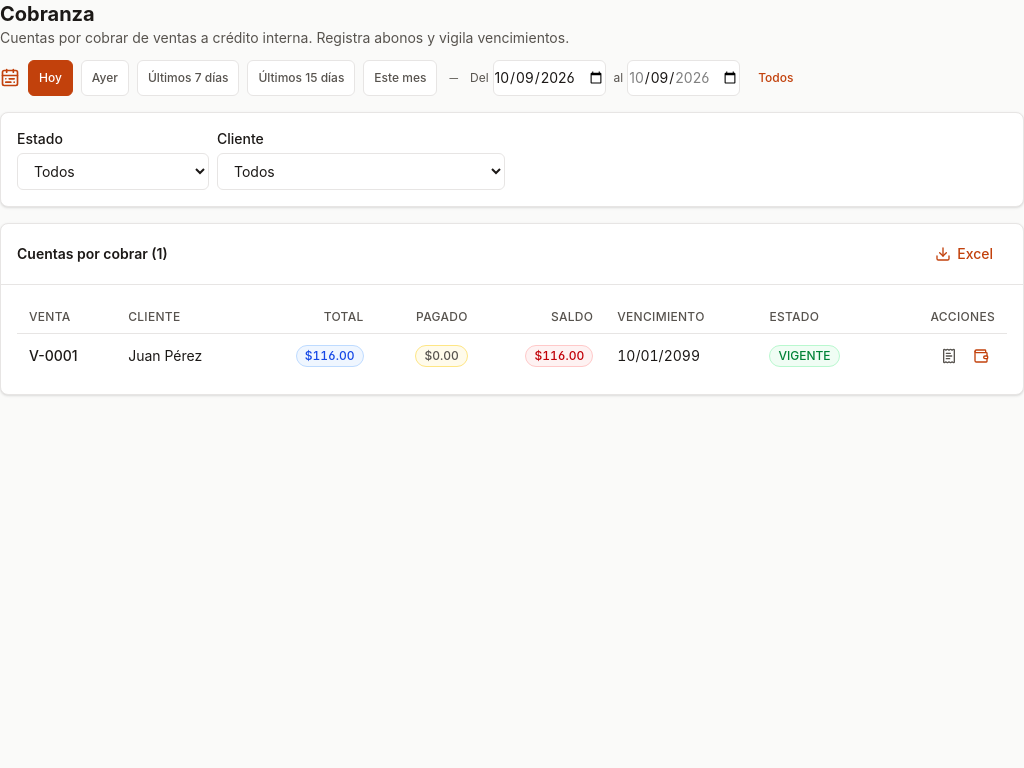
Test: CobranzaPage › pasa del estado de cuenta al formulario de abono
The width and height of the screenshot is (1024, 768).
Click the button named "Estado de cuenta" at (949, 356), box [935,342,963,370]
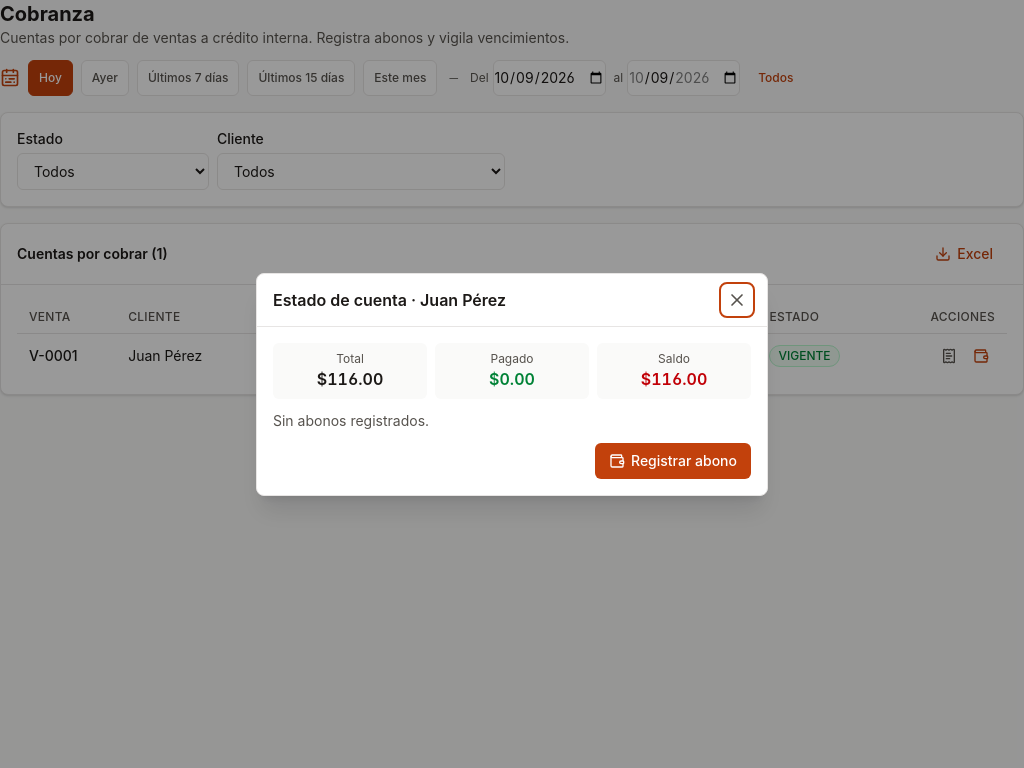
Click the button "Registrar abono" at (673, 460), box [595,442,751,478]
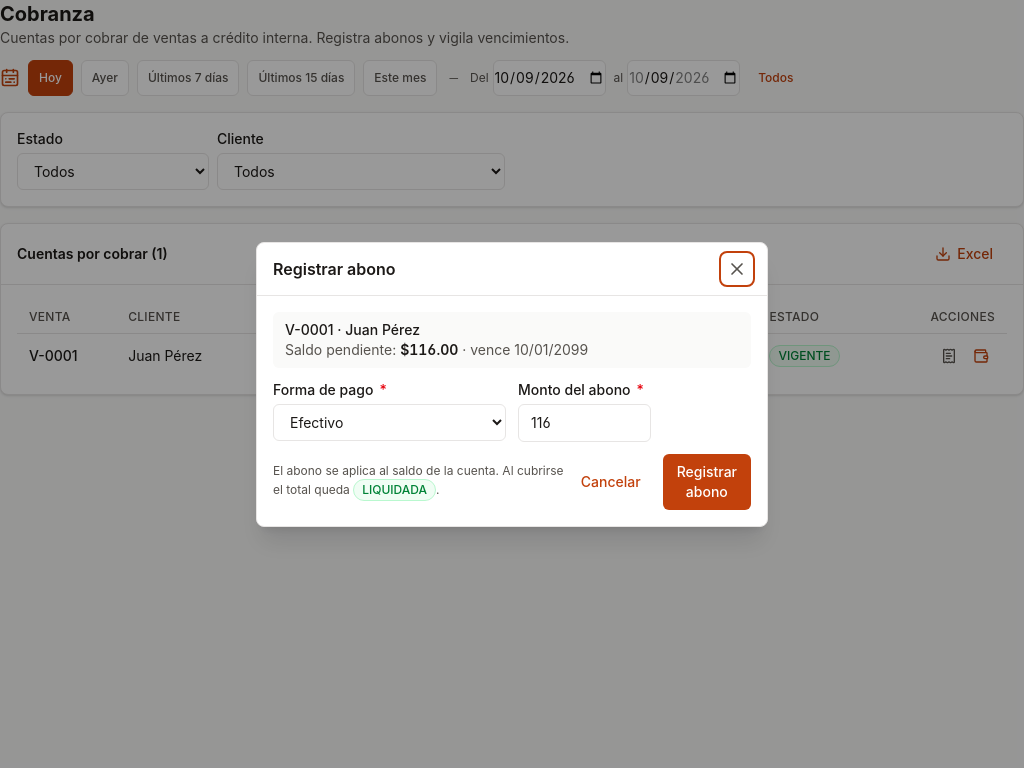
Check: the number field labelled "Monto del abono *" holds "116", box [518,404,651,442]
